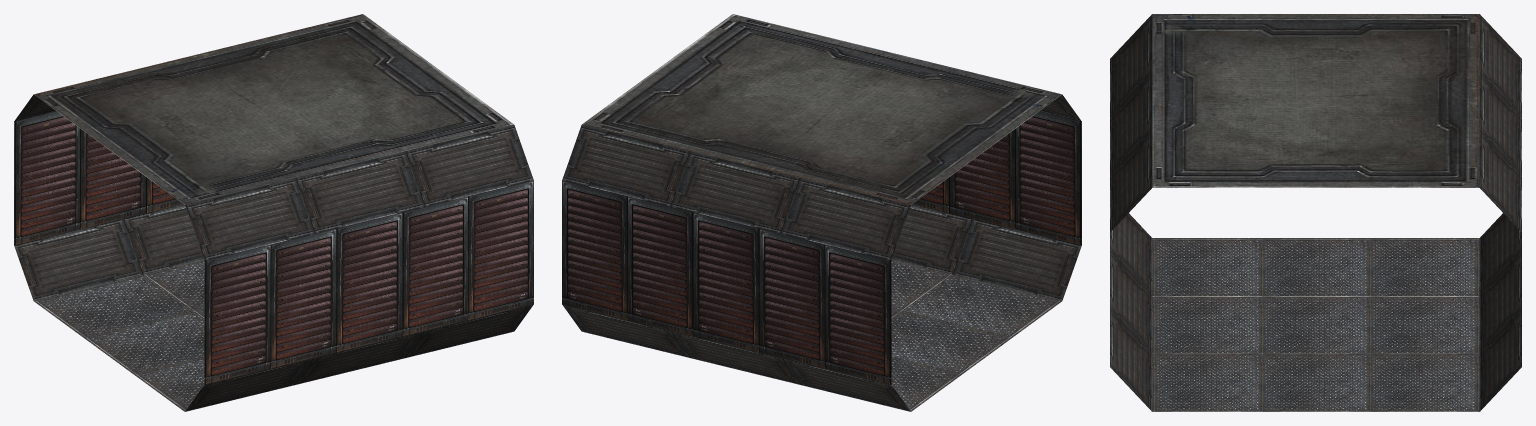
File: Hallway.fbx
The picture shows the model from 3 angles, left to right: view 1: azimuth 30°, elevation 25°; view 2: azimuth 150°, elevation 25°; view 3: azimuth 270°, elevation 25°; orthographic projection. The views are drawn at different scales.
Parts seen in each view (by area): view 1: pCube16; view 2: pCube16; view 3: pCube16.
Boxes of the visible parts, x1,y1,x2,y2 form: pCube16: [14, 14, 533, 411]; pCube16: [562, 14, 1081, 411]; pCube16: [1110, 14, 1521, 411].
Bounding box in the file's own units: 10 × 6 × 10.
